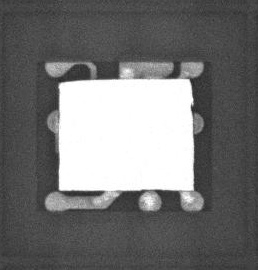DIE_BROKEN: (187, 78, 194, 130)
